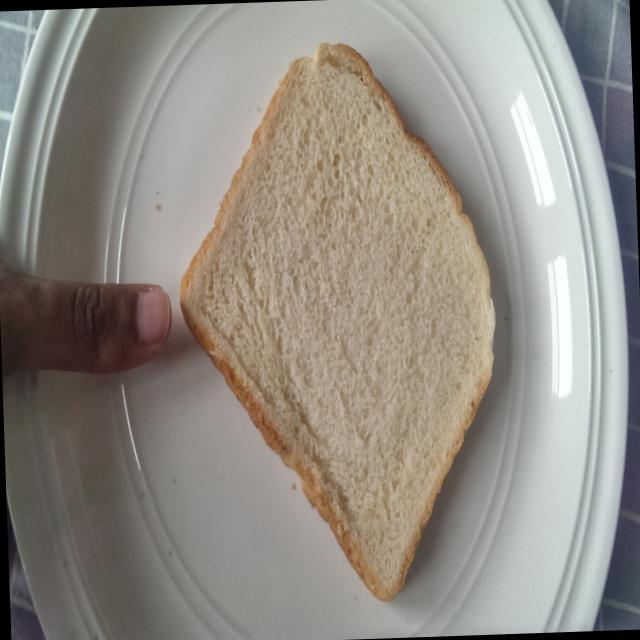Bread: (167, 32, 516, 618)
Finger: (64, 267, 180, 378)
